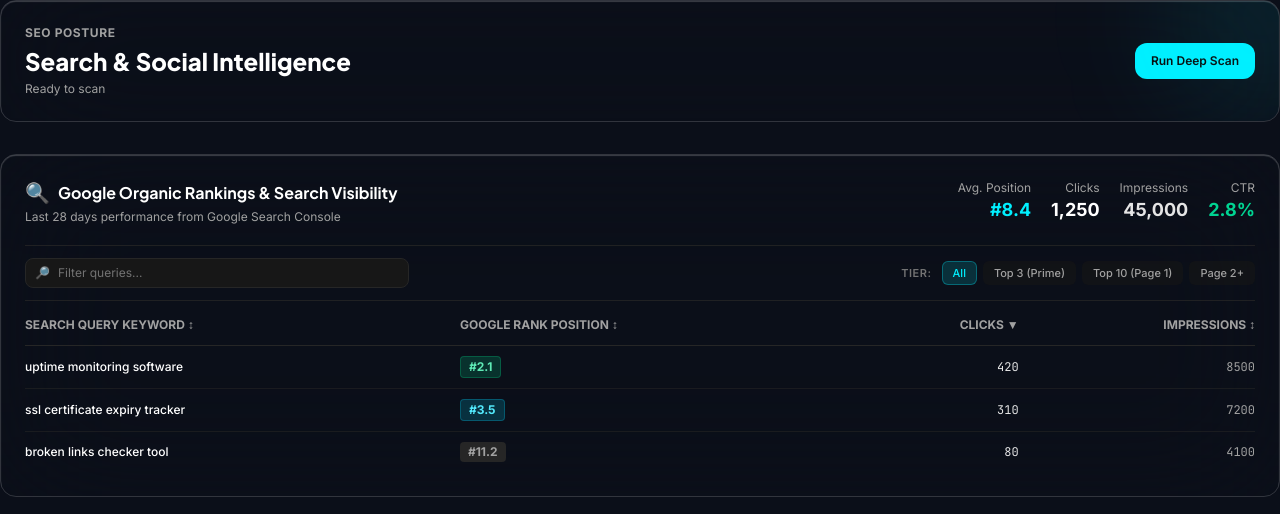
it: SeoIntelligenceView Search Console functionality › renders connected GSC queries and supports client-side keyword search
The width and height of the screenshot is (1280, 514).
Expected: the heading "Google Organic Rankings & Search Visibility" is shown, [58,181,398,205]
Expected: the text "uptime monitoring software" is shown, [25,346,460,388]
// Filter by query "ssl"
Type "ssl" into the field with placeholder "Filter queries..." at (217, 273), box [25,258,409,288]
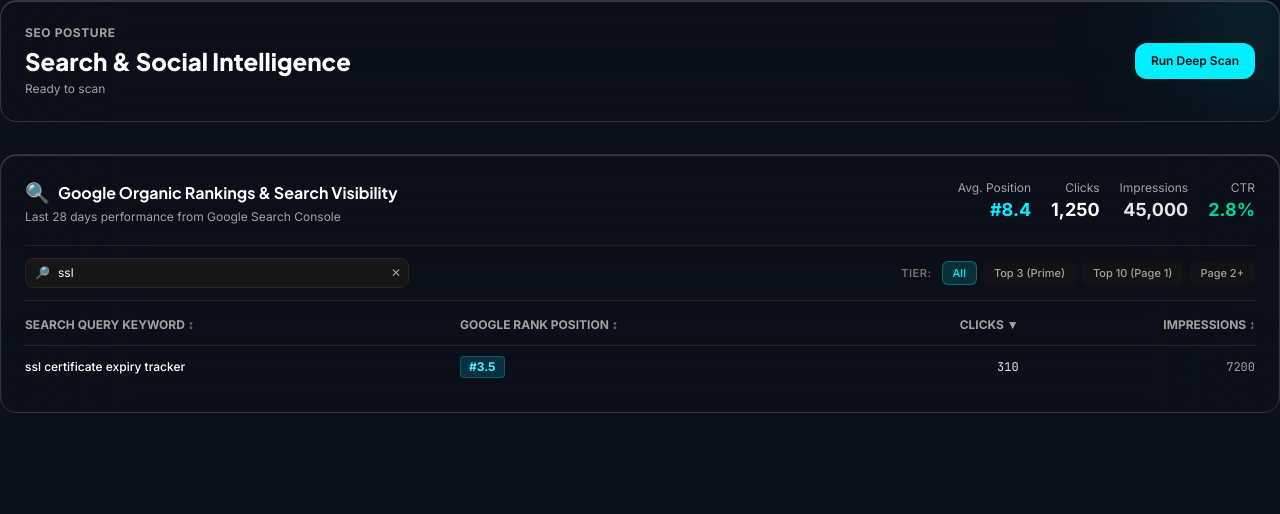
Expected: the text "ssl certificate expiry tracker" is shown, [25,346,460,388]
Expected: the text "uptime monitoring software" is gone
Expected: the text "broken links checker tool" is gone
